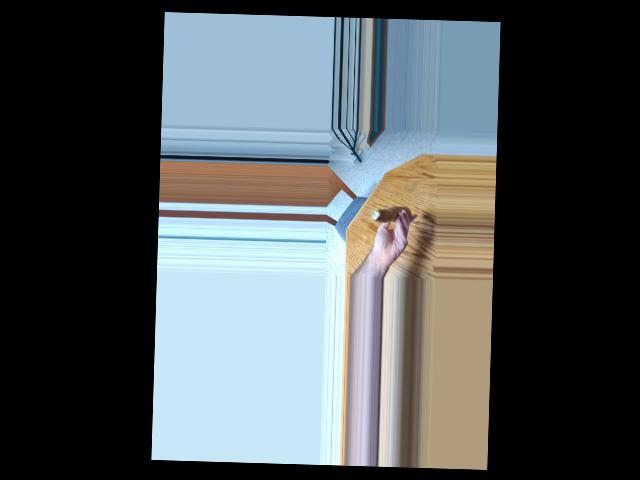sweet_potato: (377, 205, 409, 224)
